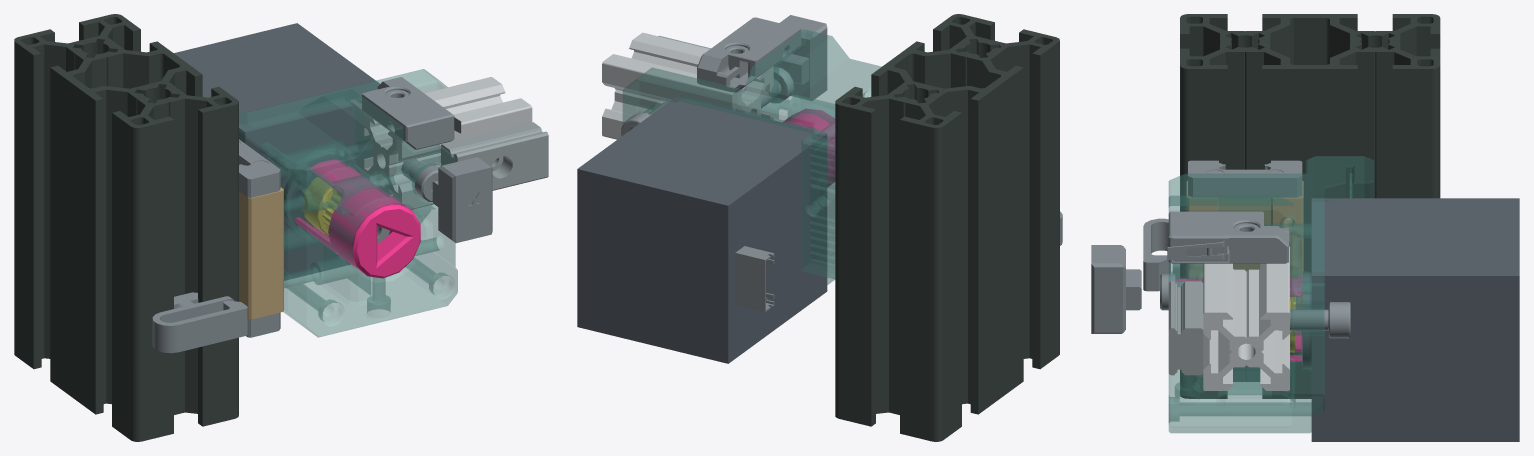
Rendered from left.glb.
3 renders of one model, left to right at view 1: azimuth 30°, elevation 25°; view 2: azimuth 150°, elevation 25°; view 3: azimuth 270°, elevation 25°, orthographic. The views are drawn at different scales.
Visible parts, largest first — view 1: col_left, L46, L47, L81, ext, slider_left, rail, L1037, L907, L56, L86, L71 (+2 smaller); view 2: col_left, L47, L46, ext, L56, L1037, L48, L81, L60; view 3: L47, col_left, L46, ext, L56, L86, L1037, slider_left, rail, L907, L70, L57 (+2 smaller).
Part boxes in pixels (x1,y1,x2,y2): col_left: (14,14,238,441); L46: (239,69,457,337); L47: (174,23,392,280); L81: (294,159,420,278); ext: (360,77,532,209); slider_left: (239,187,283,319); rail: (441,122,548,190); L1037: (432,157,492,243); L907: (152,292,247,353); L56: (350,77,454,149); L86: (239,139,280,197); L71: (302,177,342,236); col_left: (835,14,1059,441); L47: (577,96,827,363); L46: (622,29,881,284); ext: (602,32,773,139); L56: (697,17,801,92); L1037: (774,15,827,100); L48: (735,246,774,312); L81: (783,109,834,186); L60: (761,67,793,108); L47: (1303,198,1519,441); col_left: (1180,14,1440,398); L46: (1168,156,1374,433); ext: (1203,246,1289,390); L56: (1168,211,1288,263); L86: (1188,160,1302,197); L1037: (1091,245,1141,333); slider_left: (1186,181,1303,308); rail: (1168,281,1203,375); L907: (1143,218,1179,291); L70: (1279,302,1350,338); L57: (1167,238,1228,261).
Size of the model in its own units: 0.1144 by 0.084 by 0.0989.
